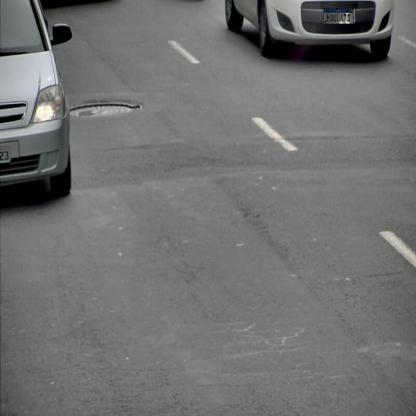PlacaM: (324, 8, 354, 24)
